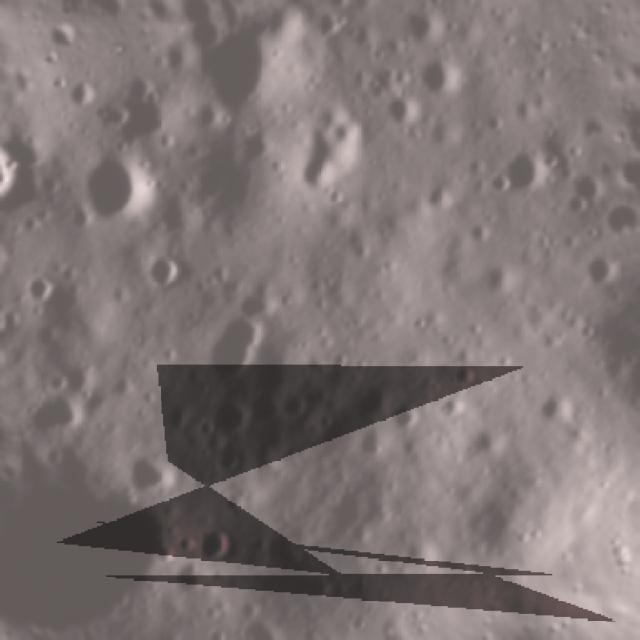crater: (551, 273, 640, 464), (186, 13, 311, 127), (61, 137, 170, 240), (272, 107, 381, 201), (190, 302, 288, 391), (16, 378, 92, 448), (0, 116, 45, 216), (492, 139, 558, 203), (119, 444, 183, 508), (134, 242, 198, 302), (186, 513, 245, 576), (340, 374, 403, 432), (414, 50, 474, 107), (199, 389, 259, 446), (523, 380, 579, 438), (577, 238, 631, 296), (391, 0, 452, 51), (470, 250, 525, 304), (377, 83, 431, 137), (242, 374, 296, 428), (565, 161, 617, 214), (60, 62, 109, 115), (462, 419, 509, 470), (22, 260, 66, 312), (304, 0, 354, 45), (419, 177, 463, 221), (276, 381, 321, 424), (321, 335, 365, 377), (457, 212, 500, 252), (595, 200, 630, 246), (448, 358, 490, 396), (168, 520, 206, 562), (484, 162, 522, 202), (0, 228, 23, 292), (558, 188, 596, 226), (0, 294, 22, 343), (481, 107, 513, 139), (95, 44, 139, 67), (255, 631, 296, 640)
